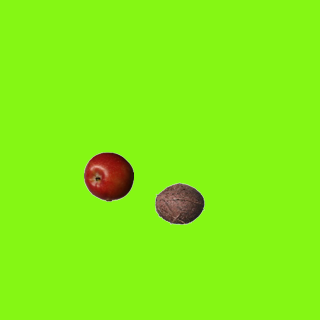Apple Braeburn: (83, 151, 133, 201)
Cocos: (154, 178, 204, 228)
